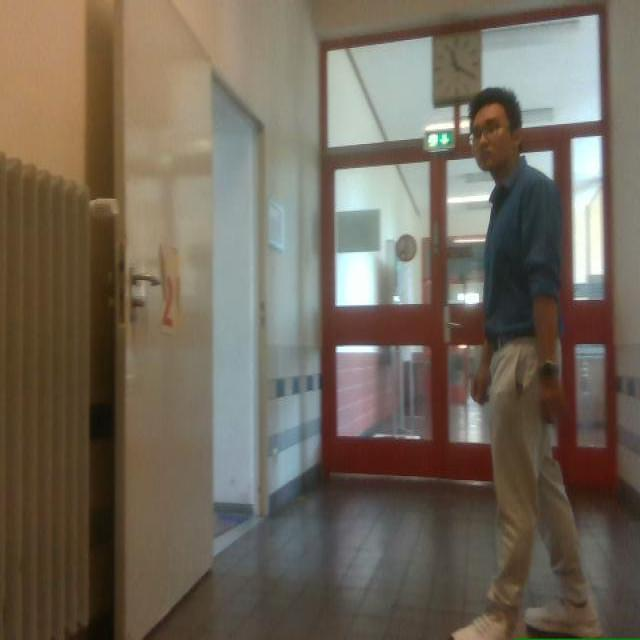humans: (450, 87, 600, 637)
objects: (114, 0, 212, 639)
